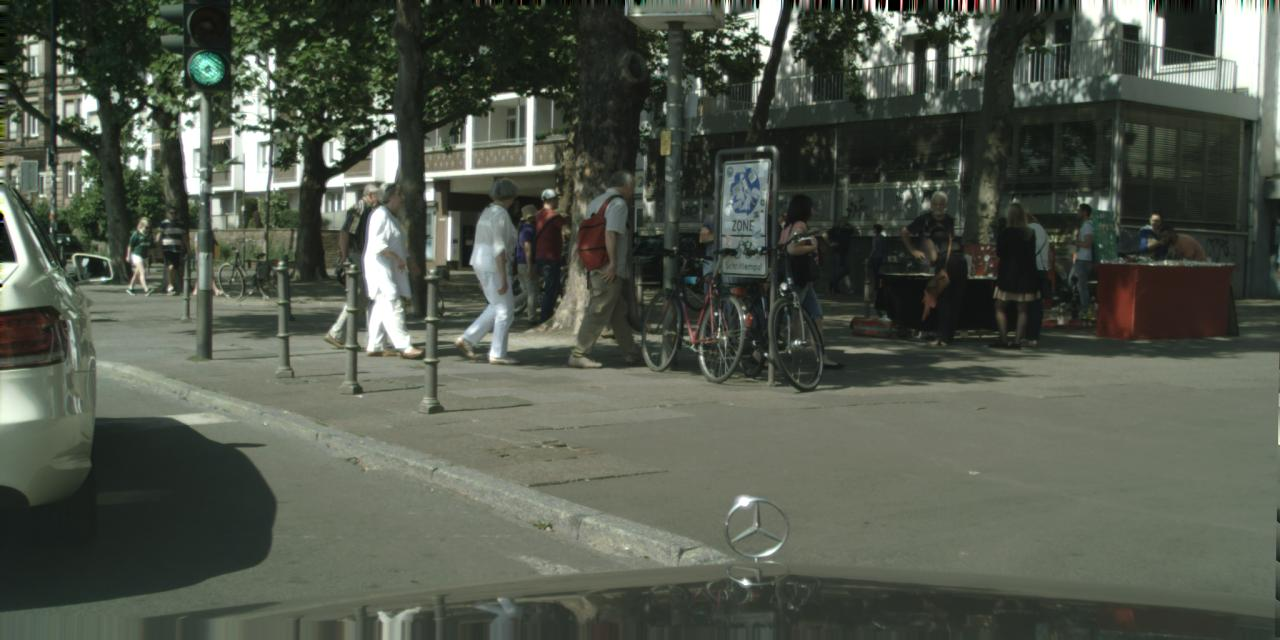ped: (576, 167, 658, 367), (457, 178, 532, 362), (355, 181, 427, 357), (765, 194, 836, 367), (332, 180, 401, 350), (689, 187, 752, 341), (740, 187, 800, 337), (982, 200, 1042, 348), (522, 187, 579, 327), (1000, 213, 1056, 348), (907, 189, 960, 320), (916, 222, 966, 348), (499, 204, 547, 322), (1061, 202, 1107, 315), (1134, 213, 1174, 314), (1166, 225, 1205, 322), (154, 206, 190, 296), (190, 213, 224, 296), (823, 214, 856, 295), (126, 216, 158, 296), (864, 223, 892, 294)
